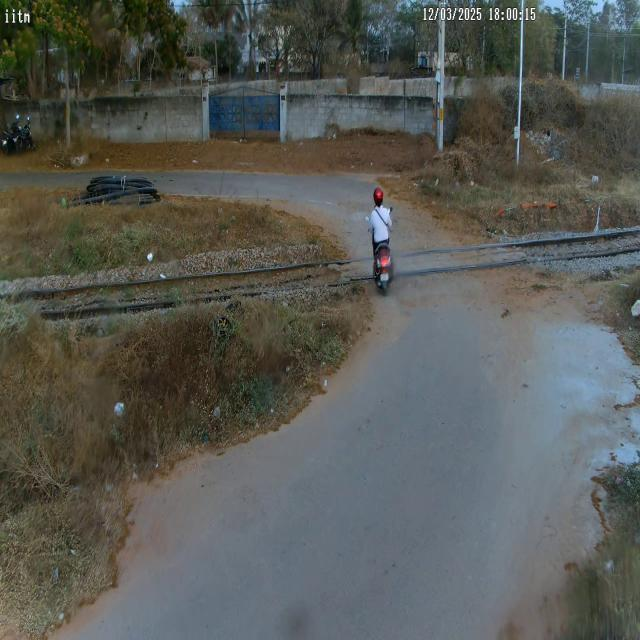objects: (364, 182, 400, 308)
